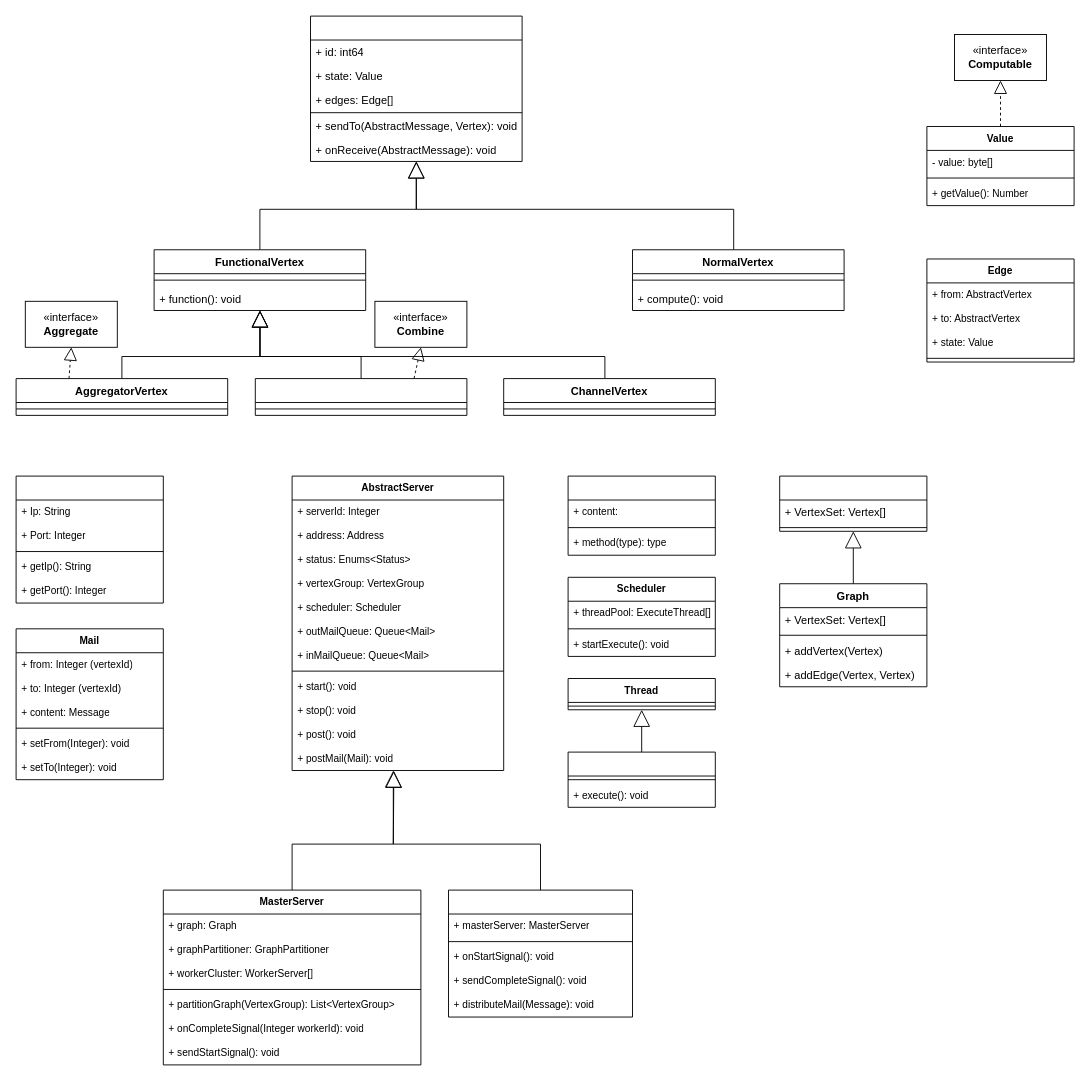
This 1090x1084 diagram has some shape labels left out. Here are the shapes that lost their labels. From the top down, the box of each, then its label:
(310, 15, 522, 161): AbstractVertex
(254, 378, 467, 415): CombinerVertex
(567, 475, 715, 555): Message
(779, 475, 927, 531): VertexGroup
(15, 475, 163, 603): Address
(567, 751, 715, 807): ExecuteThread
(448, 889, 632, 1017): WorkerServer
